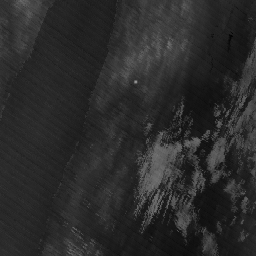Target: (132, 79, 139, 85)
